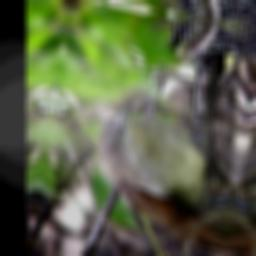Cuckoo: (81, 100, 245, 253)
